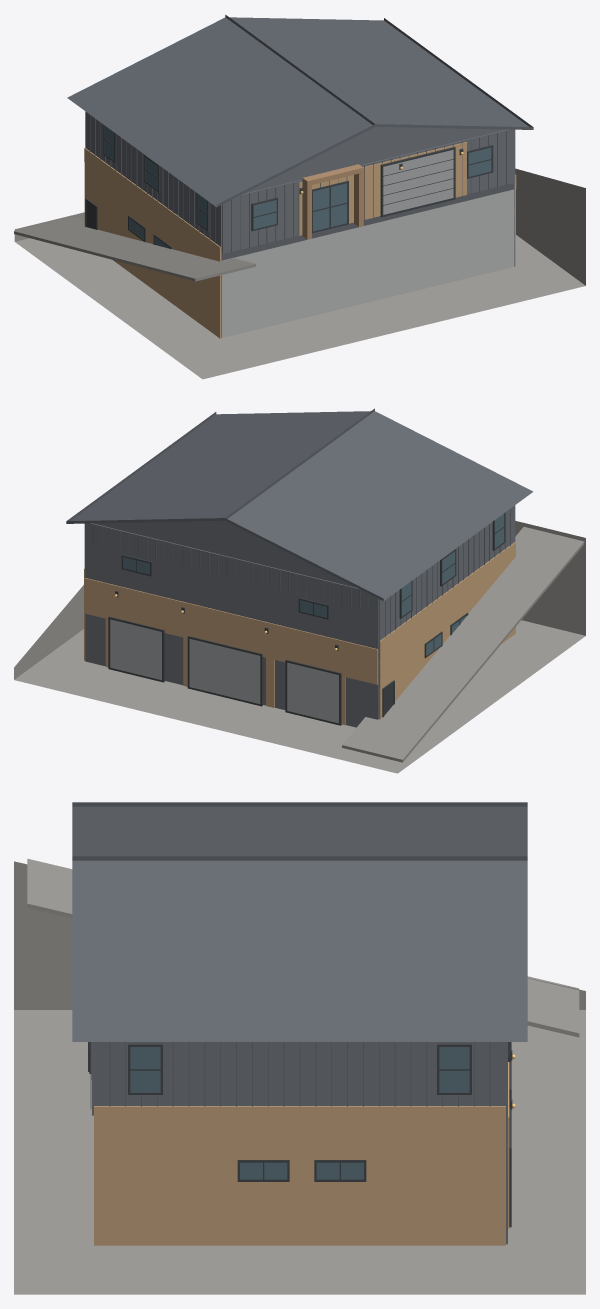
File: walid_warehouse.glb
3 renders of one model, top to bottom at view 1: azimuth 30°, elevation 25°; view 2: azimuth 150°, elevation 25°; view 3: azimuth 270°, elevation 25°, orthographic. The views are drawn at different scales.
Parts seen in each view (by area): view 1: Node_8218bf, Node_ae12fa, Node_10fac3, Node_cd24a9, Node_5497c7, Node_d66996, Node_e6a4b0, Node_317241, Node_51561d, Node_dda530; view 2: Node_8218bf, Node_cd24a9, Node_ae12fa, Node_5497c7, Node_d66996, Node_317241, Node_51561d, Node_e6a4b0; view 3: Node_8218bf, Node_ae12fa, Node_5497c7, Node_cd24a9, Node_d66996, Node_e6a4b0, Node_51561d.
Part boxes in pixels (left/top/right/bottom): Node_8218bf: left=67, top=14, right=533, bottom=260; Node_ae12fa: left=14, top=168, right=585, bottom=379; Node_10fac3: left=222, top=189, right=514, bottom=337; Node_cd24a9: left=85, top=111, right=515, bottom=338; Node_5497c7: left=84, top=142, right=516, bottom=338; Node_d66996: left=14, top=216, right=255, bottom=281; Node_e6a4b0: left=105, top=126, right=491, bottom=248; Node_317241: left=383, top=149, right=453, bottom=214; Node_51561d: left=85, top=125, right=493, bottom=248; Node_dda530: left=302, top=164, right=515, bottom=261; Node_8218bf: left=66, top=408, right=533, bottom=637; Node_cd24a9: left=84, top=505, right=515, bottom=727; Node_ae12fa: left=14, top=521, right=585, bottom=773; Node_5497c7: left=84, top=542, right=515, bottom=725; Node_d66996: left=342, top=527, right=584, bottom=762; Node_317241: left=110, top=619, right=338, bottom=723; Node_51561d: left=108, top=512, right=505, bottom=725; Node_e6a4b0: left=123, top=513, right=504, bottom=655; Node_8218bf: left=72, top=802, right=527, bottom=1108; Node_ae12fa: left=14, top=861, right=585, bottom=1294; Node_5497c7: left=91, top=1042, right=509, bottom=1245; Node_cd24a9: left=92, top=1042, right=507, bottom=1244; Node_d66996: left=27, top=858, right=579, bottom=1037; Node_e6a4b0: left=130, top=1047, right=469, bottom=1179; Node_51561d: left=88, top=1042, right=512, bottom=1227.
Bounding box in the file's own units: 20.37 × 9.81 × 17.18.
